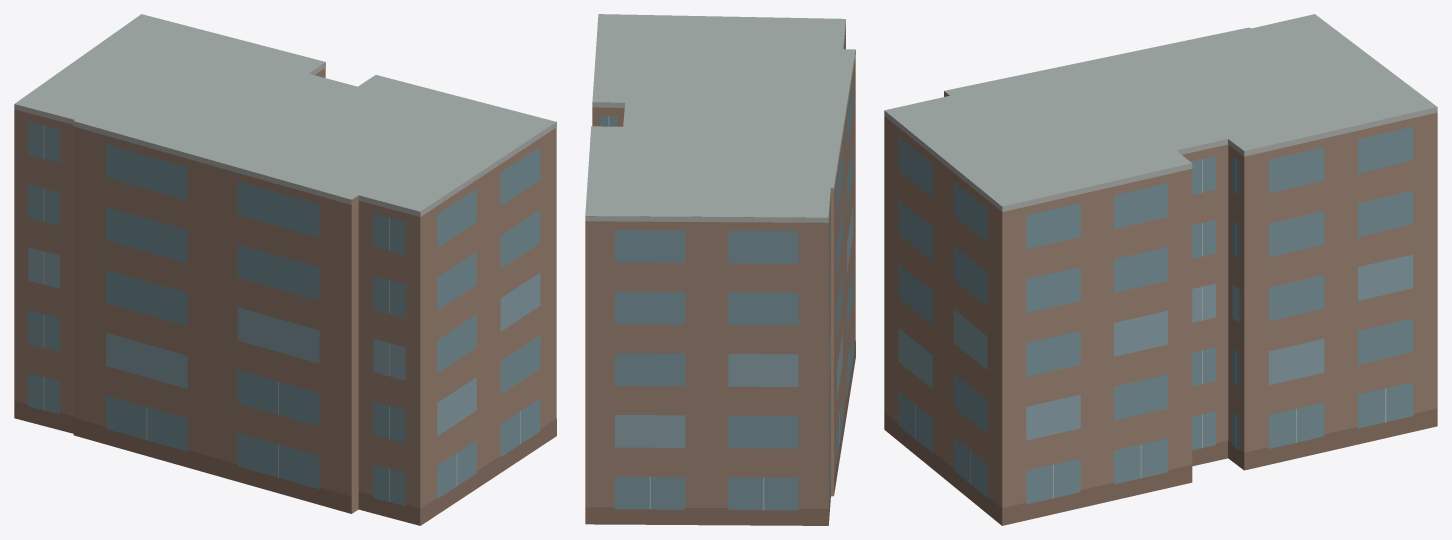
The model's file is survey-upis-32667256.glb.
The picture shows the model from 3 angles, left to right: view 1: azimuth 30°, elevation 25°; view 2: azimuth 150°, elevation 25°; view 3: azimuth 270°, elevation 25°; orthographic projection. The views are drawn at different scales.
Parts seen in each view (by area): view 1: survey-upis-32667256.tmp; view 2: survey-upis-32667256.tmp; view 3: survey-upis-32667256.tmp.
Boxes of the visible parts, bbox=[...] form: survey-upis-32667256.tmp: bbox=[14, 14, 556, 525]; survey-upis-32667256.tmp: bbox=[585, 14, 855, 525]; survey-upis-32667256.tmp: bbox=[884, 14, 1437, 525].
Bounding box in the file's own units: 18.58 × 14.35 × 22.55.
